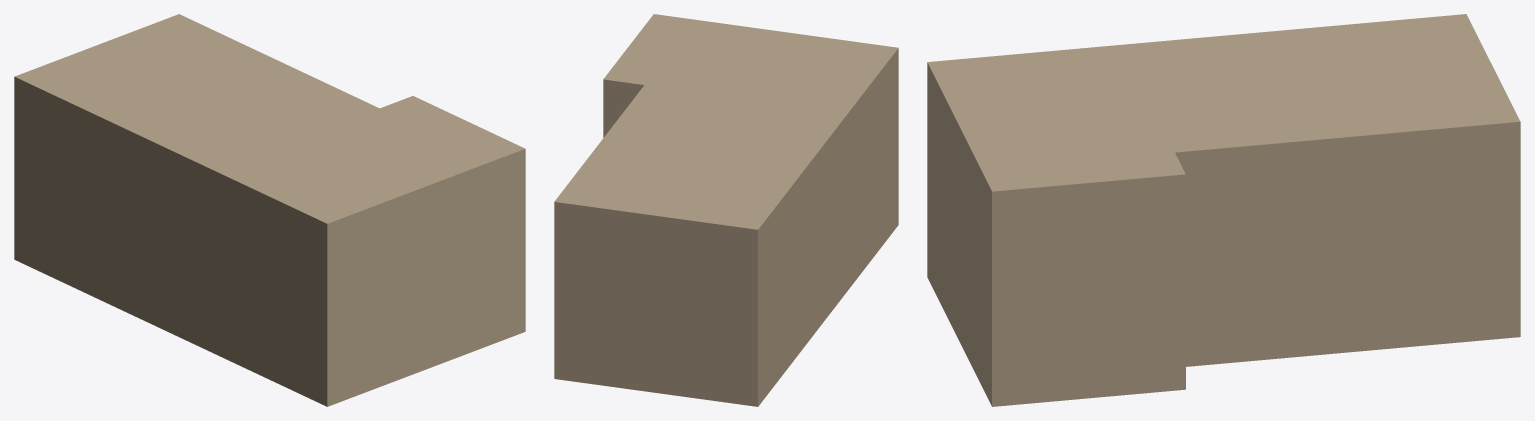
Rendered from bld_101562355.dae.
3 views of the same model, side by side, from view 1: azimuth 30°, elevation 25°; view 2: azimuth 150°, elevation 25°; view 3: azimuth 270°, elevation 25° (orthographic). The views are drawn at different scales.
Parts seen in each view (by area): view 1: bld_101562355; view 2: bld_101562355; view 3: bld_101562355.
Part boxes in pixels (bbox=[...]): bld_101562355: bbox=[14, 14, 525, 406]; bld_101562355: bbox=[554, 14, 898, 406]; bld_101562355: bbox=[927, 14, 1520, 406].
Bounding box in the file's own units: 14.15 × 19.97 × 8.
